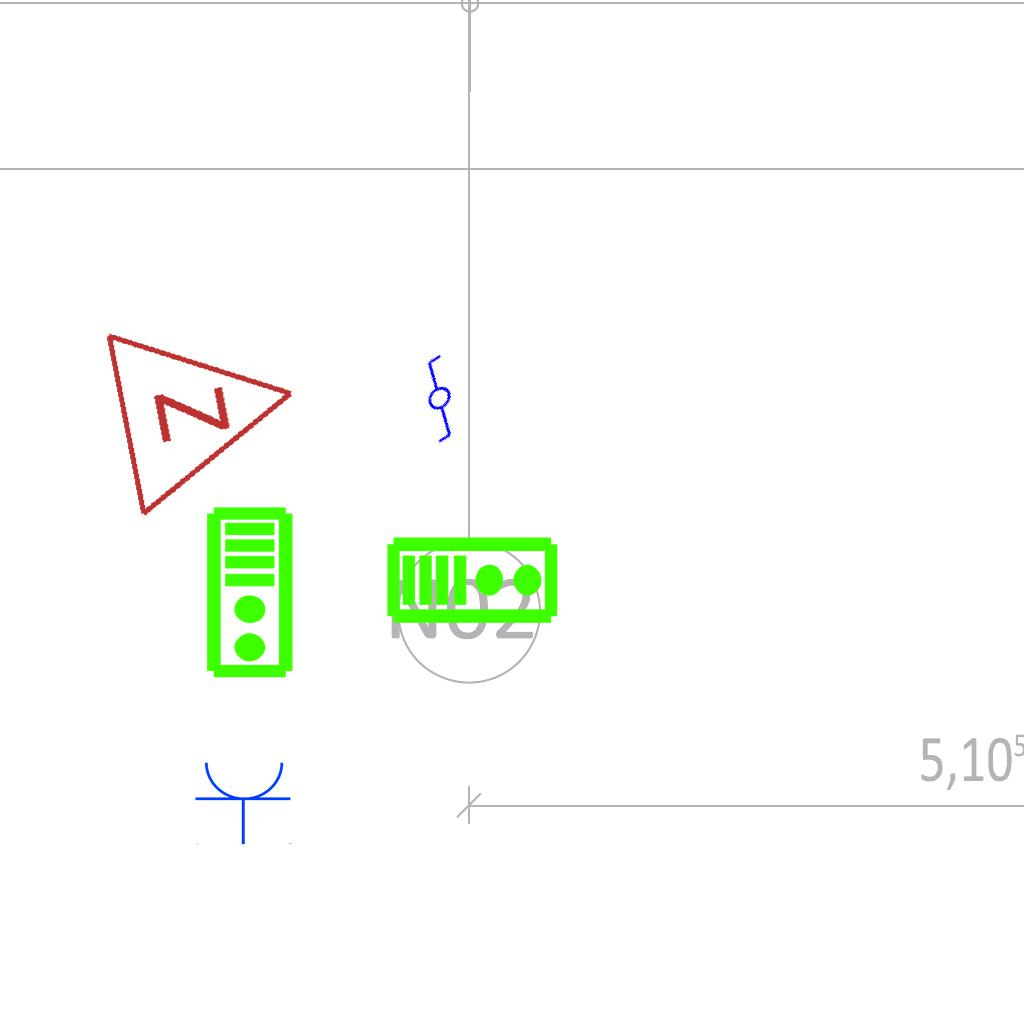Gegensprechanlage_mit_Video: (204, 505, 299, 681), (385, 531, 561, 626)
Schukosteckdose_einfach: (194, 758, 294, 845)
Wechselschalter: (390, 342, 496, 450)
Zimmersignalleuchte: (90, 291, 324, 523)
